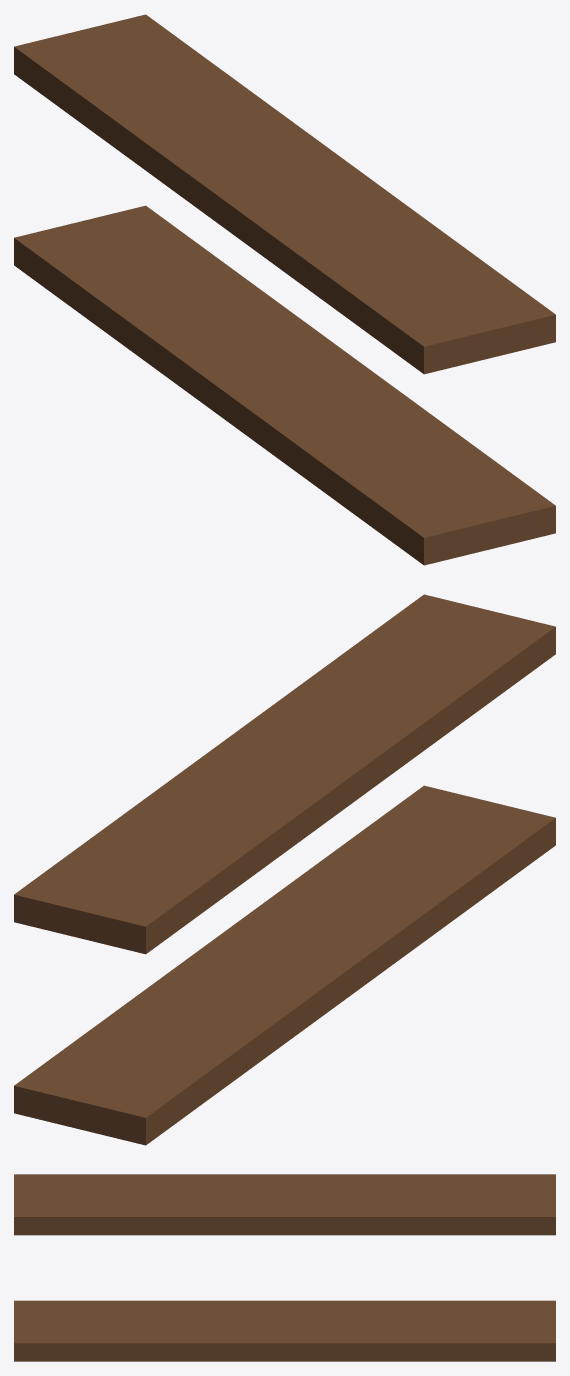
File: shelf.glb
3 renders of one model, top to bottom at view 1: azimuth 30°, elevation 25°; view 2: azimuth 150°, elevation 25°; view 3: azimuth 270°, elevation 25°, orthographic. The views are drawn at different scales.
Visible parts, largest first — view 1: shelf-surface; view 2: shelf-surface; view 3: shelf-surface.
Part boxes in pixels (x1=…): shelf-surface: x1=14, y1=14, x2=555, y2=565; shelf-surface: x1=14, y1=594, x2=555, y2=1145; shelf-surface: x1=14, y1=1174, x2=555, y2=1361.
Bounding box in the file's own units: 0.65 × 1.03 × 3.5.
